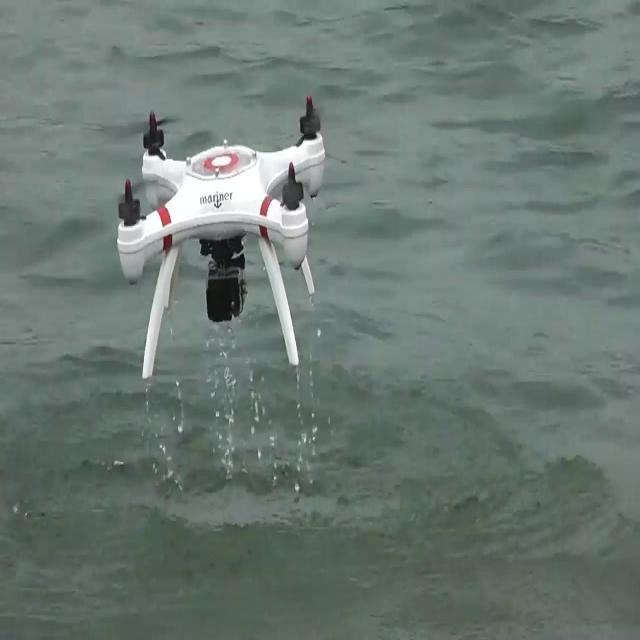UAV: (117, 92, 325, 378)
